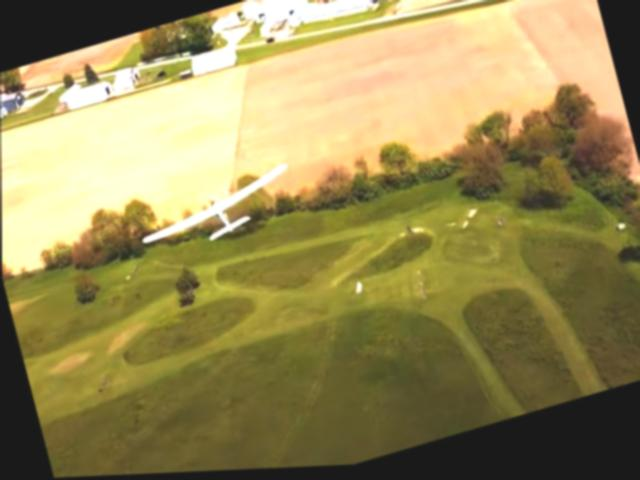iha: (131, 164, 298, 265)
